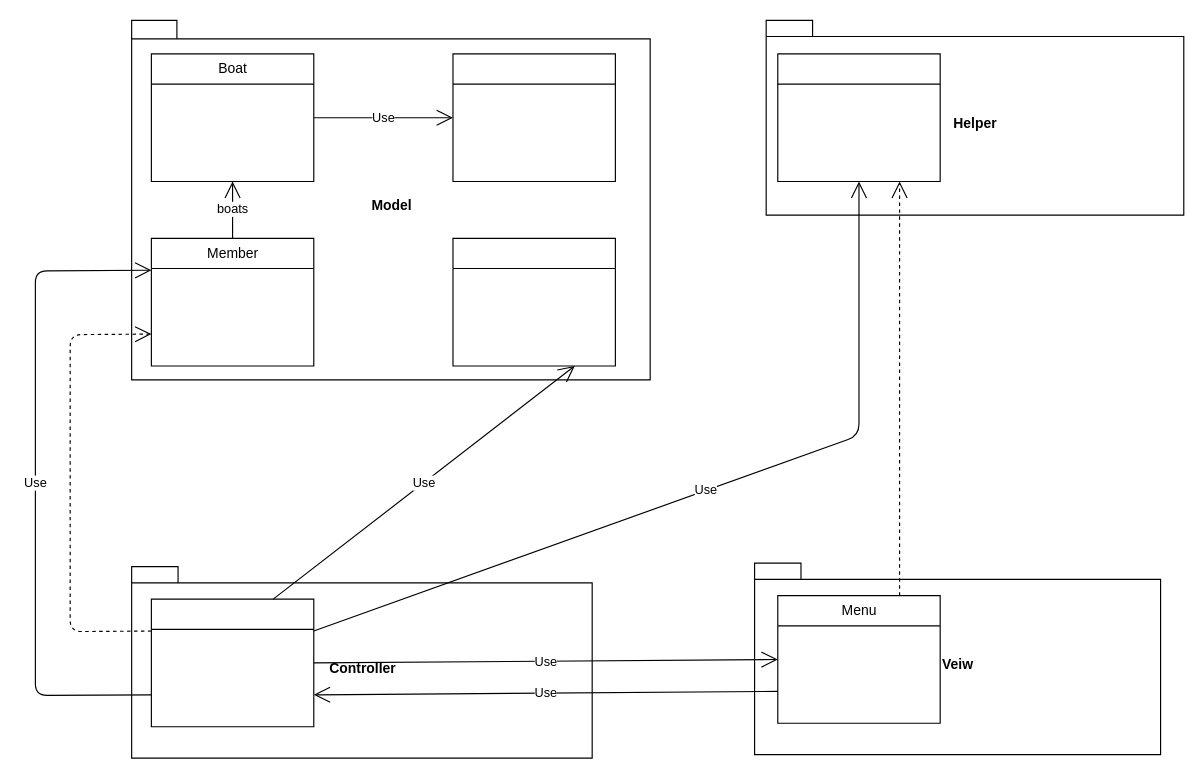
The diagram is 1204 pixels wide and 778 high, and some of its shapes have lost their labels. The centre of each missing label's shape, as x and y in pixels:
"Berth" goes at point (533, 117).
"Database" goes at point (533, 301).
"Pnr" goes at point (858, 117).
"YachtClub" goes at point (232, 662).
